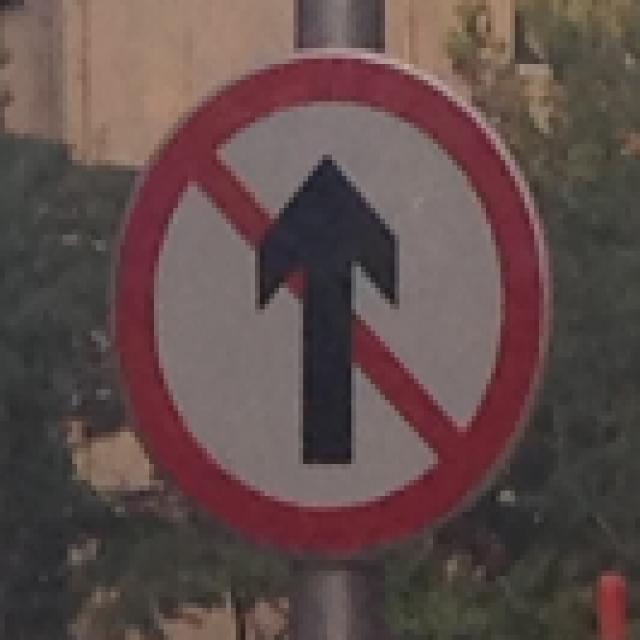Not that Direction: (108, 49, 560, 570)
